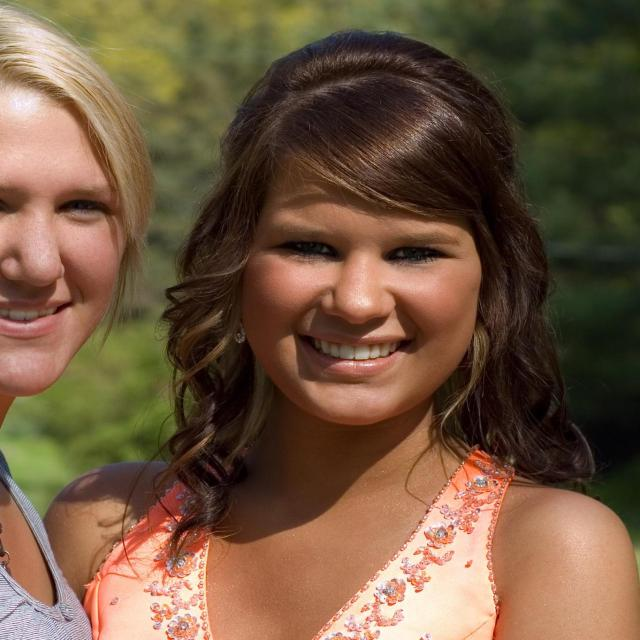no-glass: (267, 240, 455, 266)
